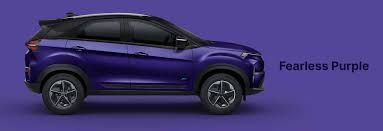Tata Nexon: (25, 10, 265, 117)
